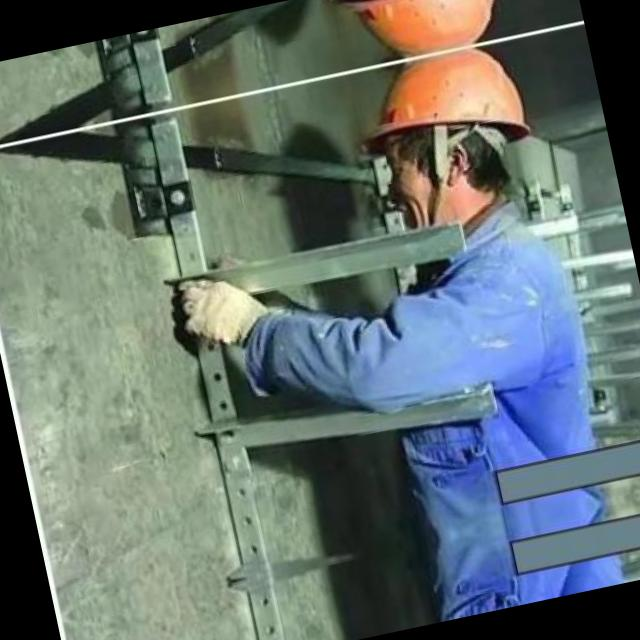helmet: (332, 33, 558, 258), (315, 0, 521, 75)
